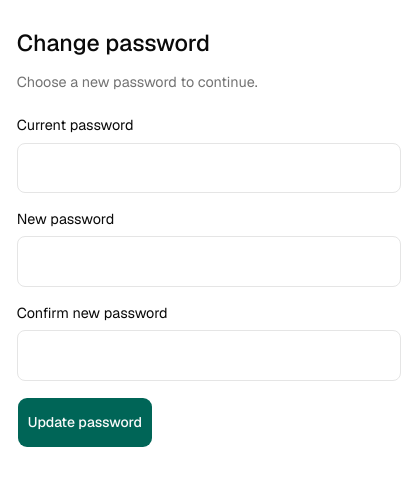
change-password form › shows INVALID_CREDENTIALS message and keeps the form
Type "wrong" into the password field labelled "Current password". click: [209, 168]
box: left=17, top=142, right=401, bottom=193
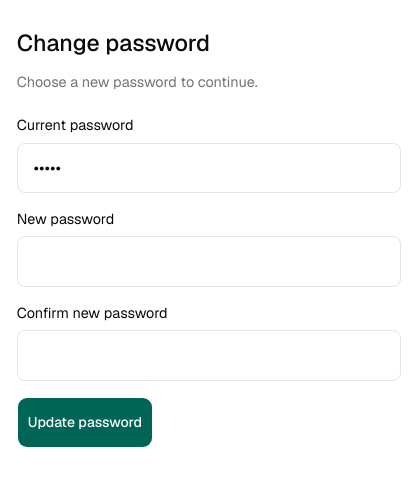
Type "GoodPass99!" into the password field labelled "New password". click: [209, 262]
box: left=17, top=236, right=401, bottom=287
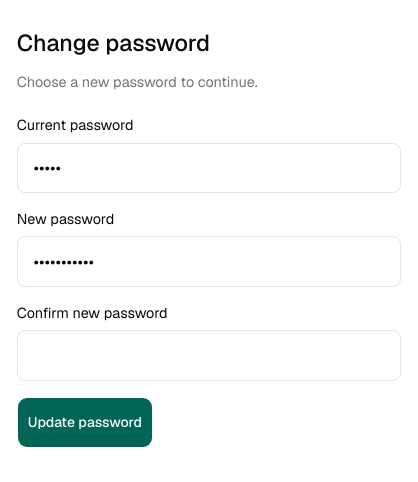
Type "GoodPass99!" into the password field labelled "Confirm new password". click: [209, 356]
box: left=17, top=330, right=401, bottom=381
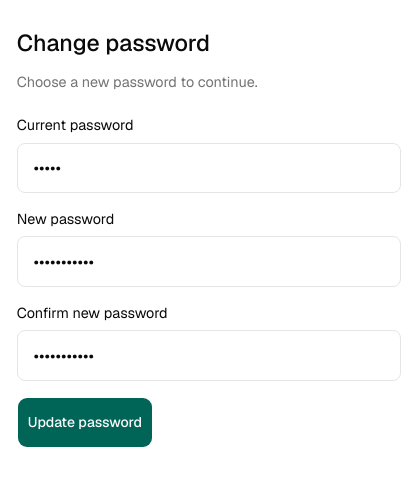
Click the button "Update password". click: [85, 422]
box: left=17, top=397, right=153, bottom=448
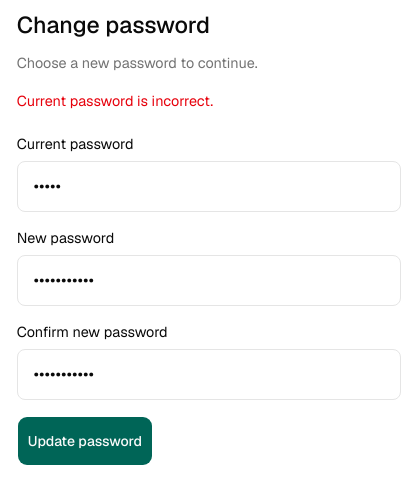
Expected: the message reads "Current password is incorrect.", left=17, top=92, right=213, bottom=110
